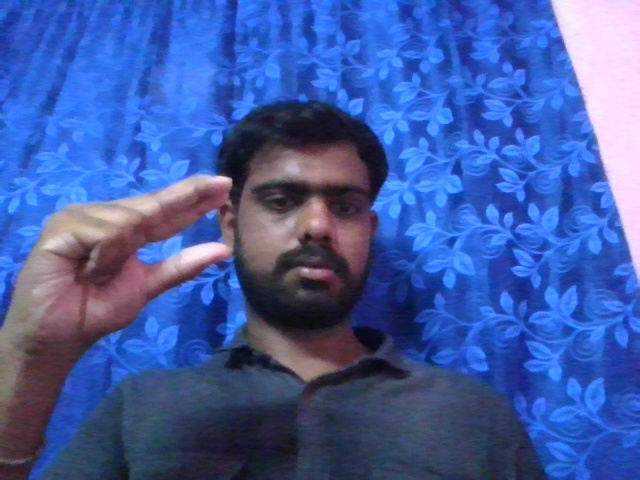No: (7, 160, 232, 351)
